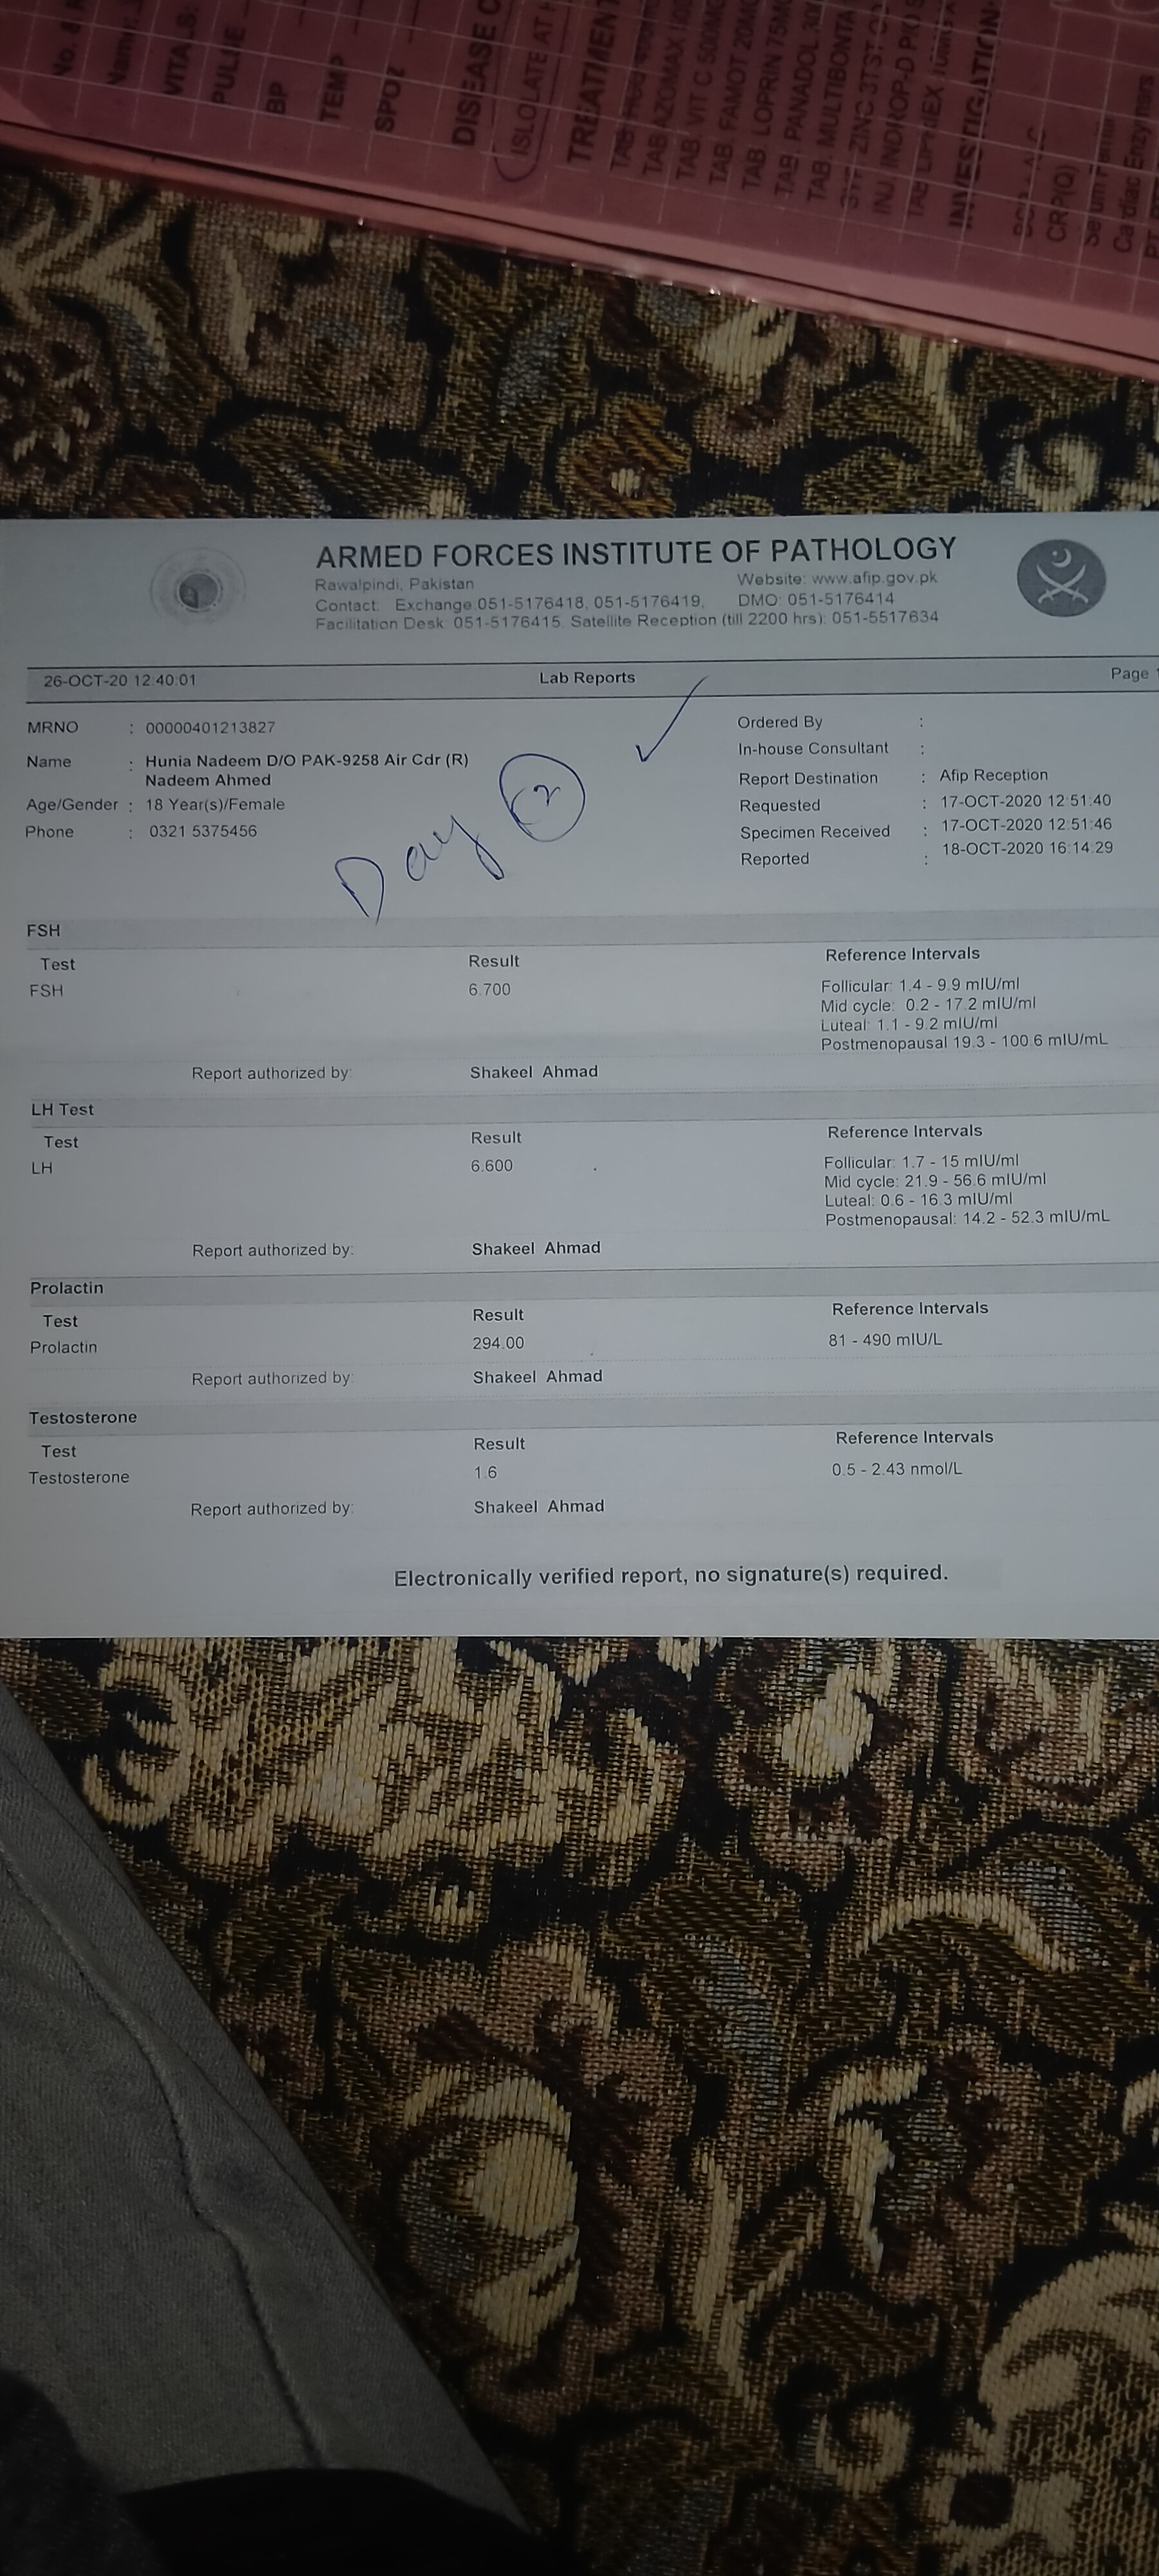report: (18, 907, 1151, 1533)
